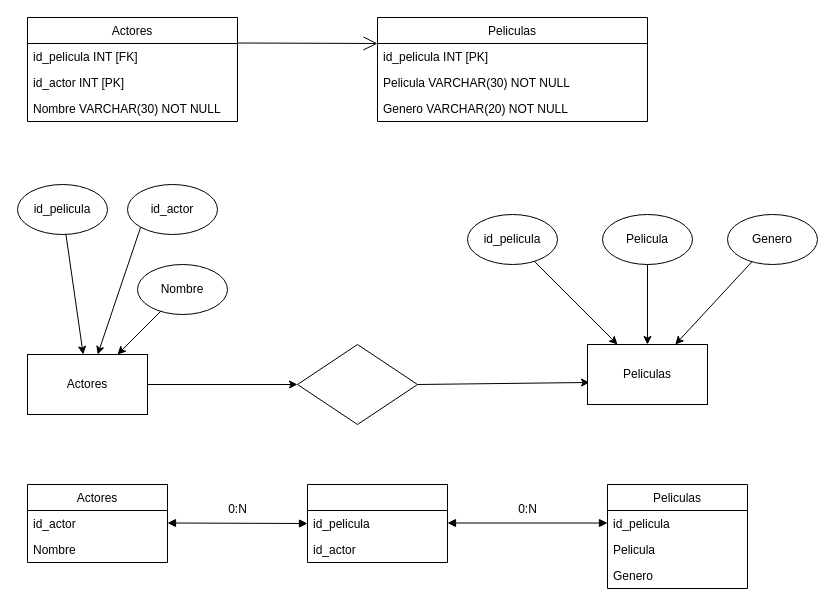
Some shapes in this 835 by 609 pixel diagram are drawn without their labels. The shapes that lost their labels are listed below. From the top down, each one's box as (x1, y1, x2, y2) in pixels, then its label:
(296, 344, 418, 424): Participacion
(306, 484, 448, 562): Actor-Peliculas
